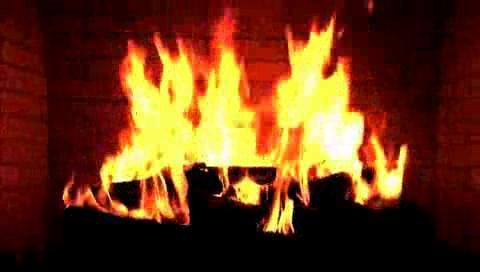fire: (123, 21, 386, 206)
